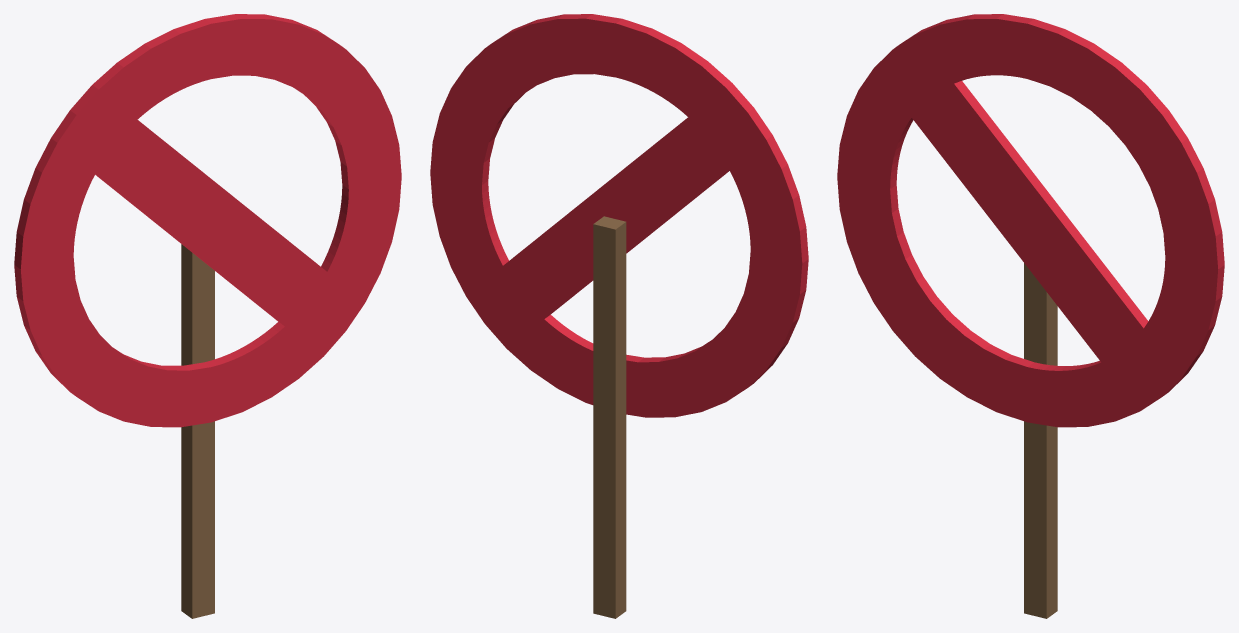
The model's file is interdit.glb.
The picture shows the model from 3 angles, left to right: view 1: azimuth 30°, elevation 25°; view 2: azimuth 150°, elevation 25°; view 3: azimuth 330°, elevation 25°; orthographic projection. The views are drawn at different scales.
Size of the model in its own units: 1 by 1.5 by 0.085.
